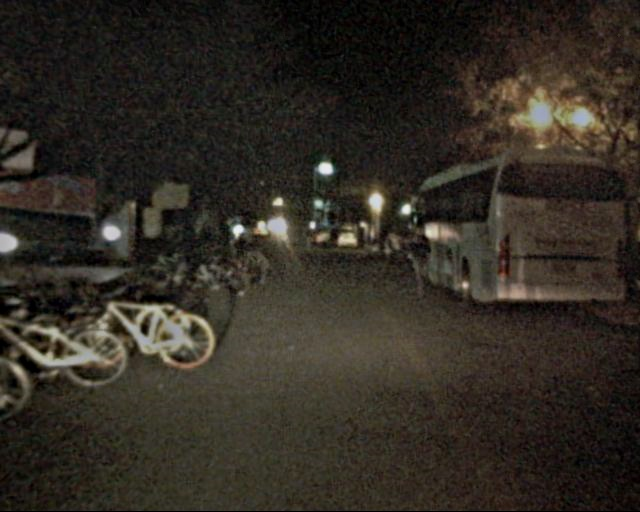person: (405, 220, 439, 303), (237, 217, 257, 264), (332, 229, 343, 255)
